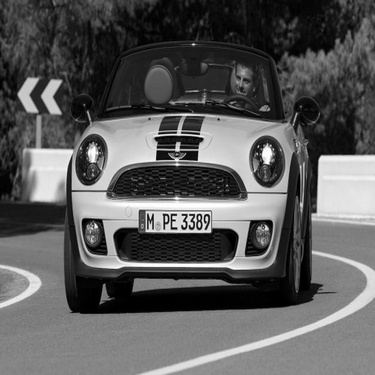car: (60, 17, 325, 312)
